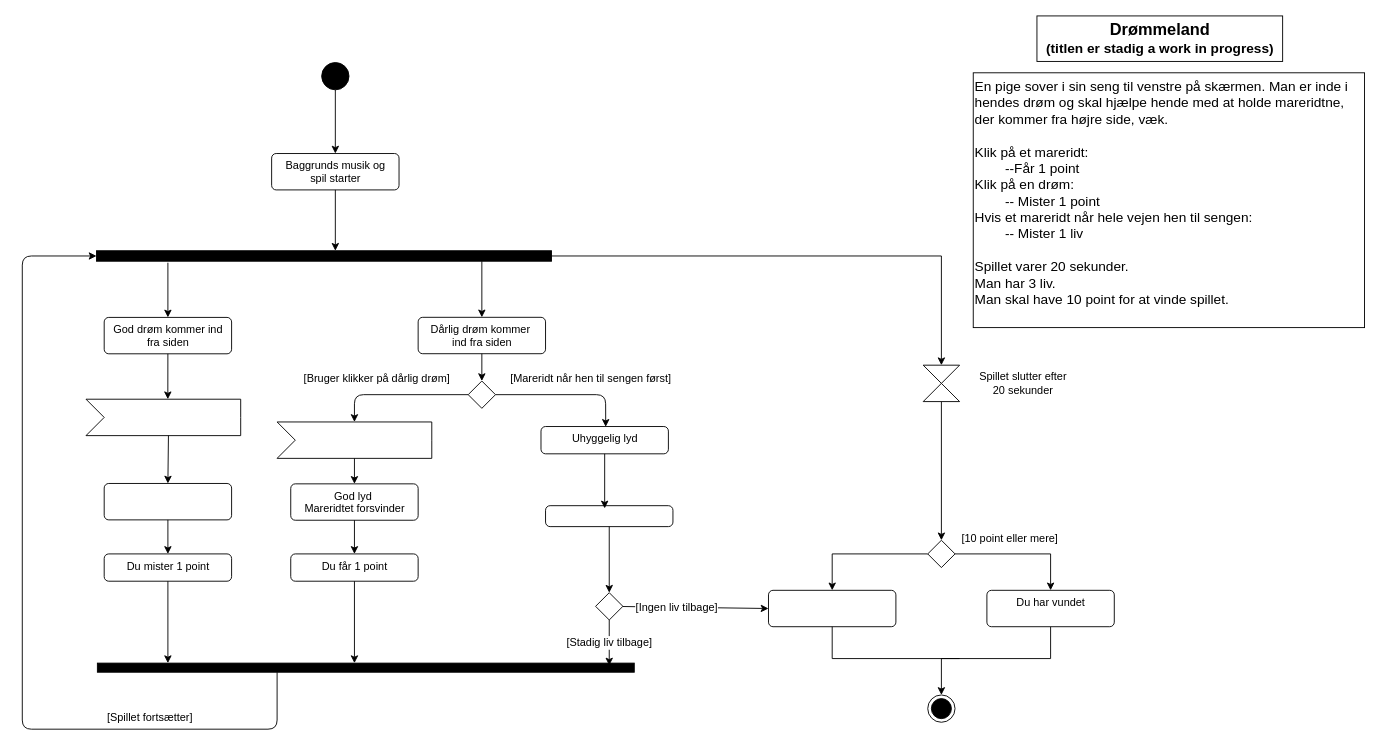
The diagram is 1380 pixels wide and 753 high, and some of its shapes have lost their labels. Each missing label, with the box of its shape:
Du har tabt: (768, 589, 896, 627)
Du mister 1 liv: (545, 505, 673, 527)
Dårlig lyd Drømmen forsvinder: (103, 483, 232, 520)
Klik på dårlig drøm: (276, 421, 432, 458)
Klik på god drøm: (85, 398, 241, 436)
